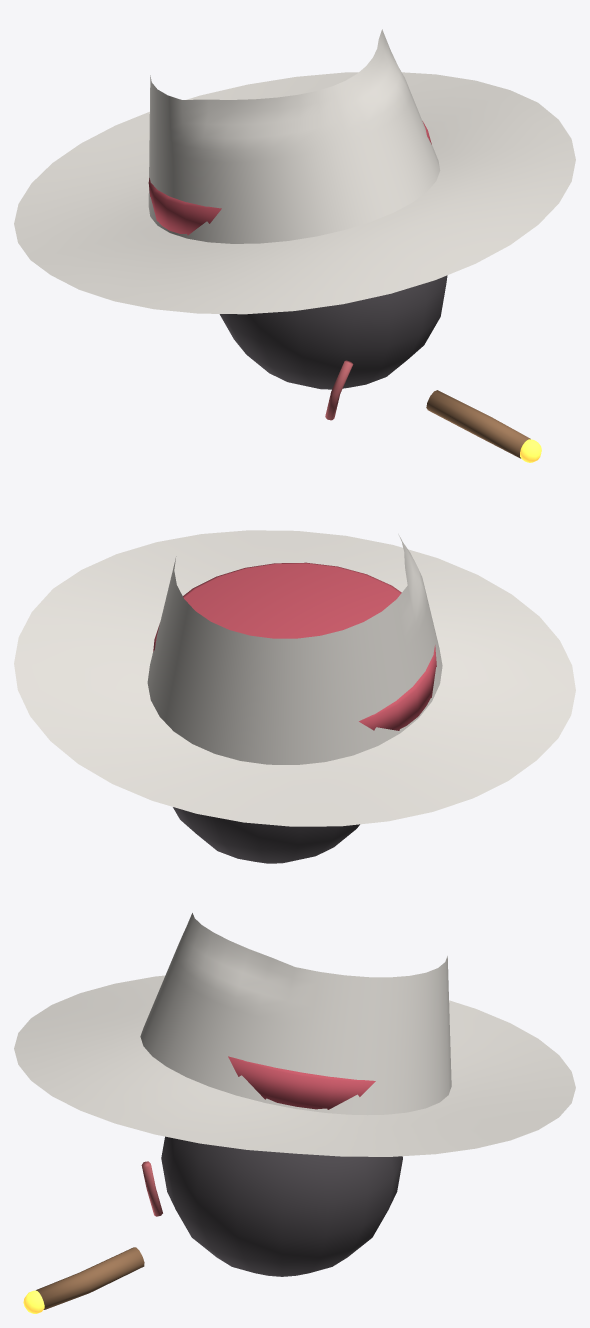
Rendered from boss_al_capone.glb.
The picture shows the model from 3 angles, top to bottom: view 1: azimuth 30°, elevation 25°; view 2: azimuth 150°, elevation 25°; view 3: azimuth 270°, elevation 25°; orthographic projection.
Parts seen in each view (by area): view 1: FedoraBrim, FedoraCrown, CaponeHairBack, CaponeCigar, FedoraRibbon, CaponeScar; view 2: FedoraBrim, FedoraCrown, FedoraRibbon, CaponeHairBack; view 3: FedoraBrim, FedoraCrown, CaponeHairBack, FedoraRibbon, CaponeCigar, CaponeScar.
Part boxes in pixels (box(x1,y1,x2,y2)): FedoraBrim: box(14, 72, 575, 314); FedoraCrown: box(148, 29, 440, 243); CaponeHairBack: box(219, 275, 447, 389); CaponeCigar: box(426, 390, 530, 458); FedoraRibbon: box(148, 121, 431, 235); CaponeScar: box(325, 360, 353, 420); FedoraBrim: box(14, 530, 575, 826); FedoraCrown: box(147, 534, 442, 764); FedoraRibbon: box(153, 562, 436, 730); CaponeHairBack: box(173, 807, 359, 863); FedoraBrim: box(14, 975, 575, 1156); FedoraCrown: box(140, 913, 451, 1115); CaponeHairBack: box(161, 1136, 402, 1276); FedoraRibbon: box(228, 1056, 375, 1109); CaponeCigar: box(36, 1247, 144, 1309); CaponeScar: box(141, 1161, 162, 1216).
Size of the model in its own units: 0.4515 by 0.3081 by 0.4551.
